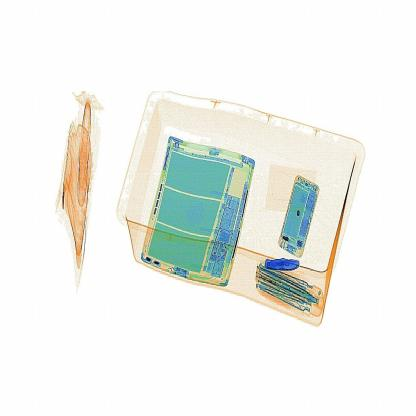knife: (254, 245, 301, 274)
